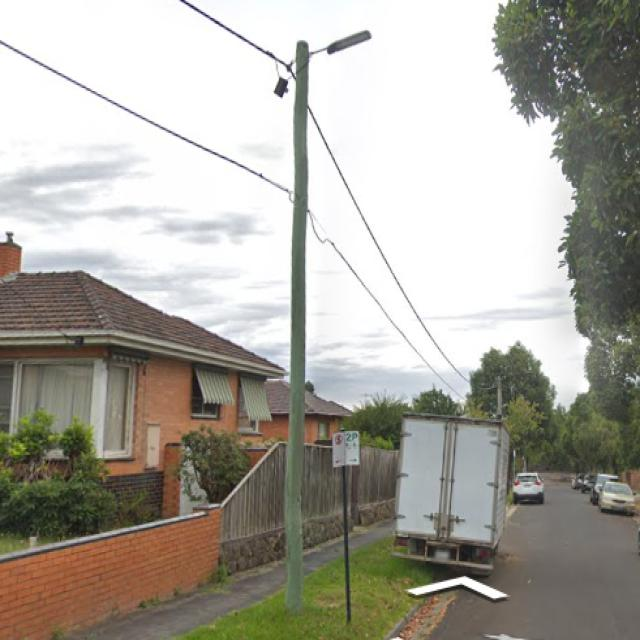streetlight: (310, 29, 372, 56)
timber-pole: (285, 38, 310, 608)
